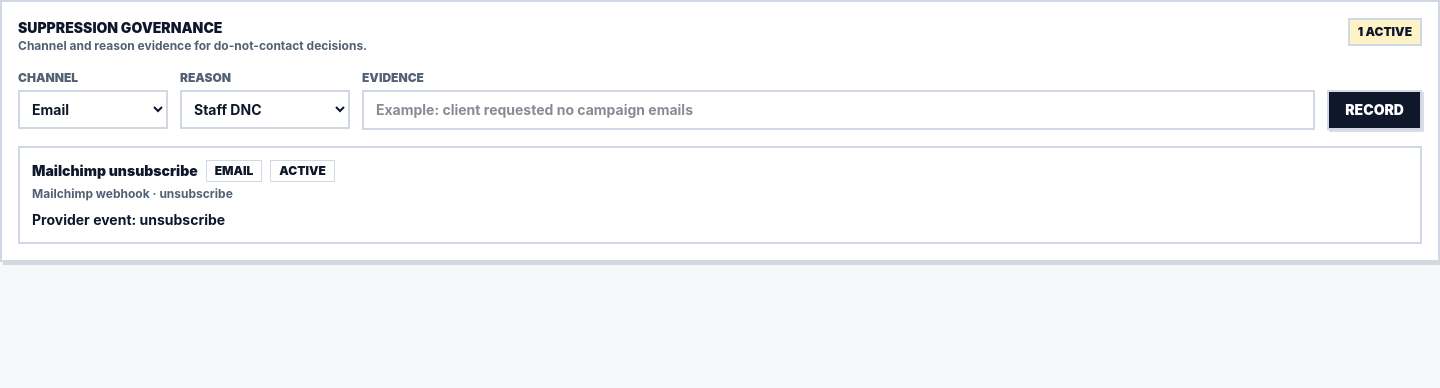
Test: ContactSuppressionPanel › renders provider suppression evidence and records a staff DNC entry
The image size is (1440, 388).
Check: the text "Mailchimp unsubscribe" is shown, box x1=32 y1=161 x2=198 y2=181
Type "Client requested no campaign emails" into the field labelled "Evidence" at (839, 110), box x1=362 y1=90 x2=1315 y2=130
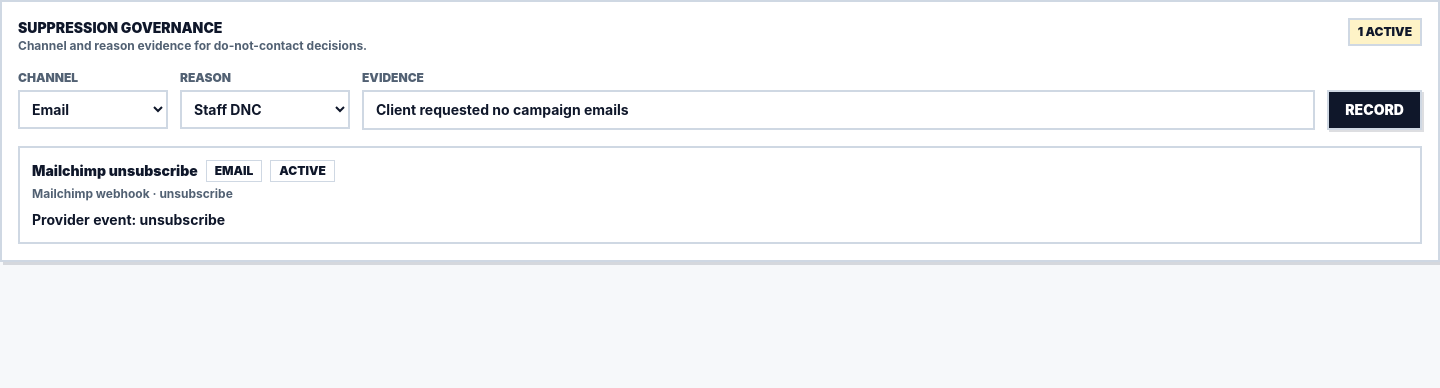
Click the button "Record" at (1375, 110), box x1=1327 y1=90 x2=1422 y2=130
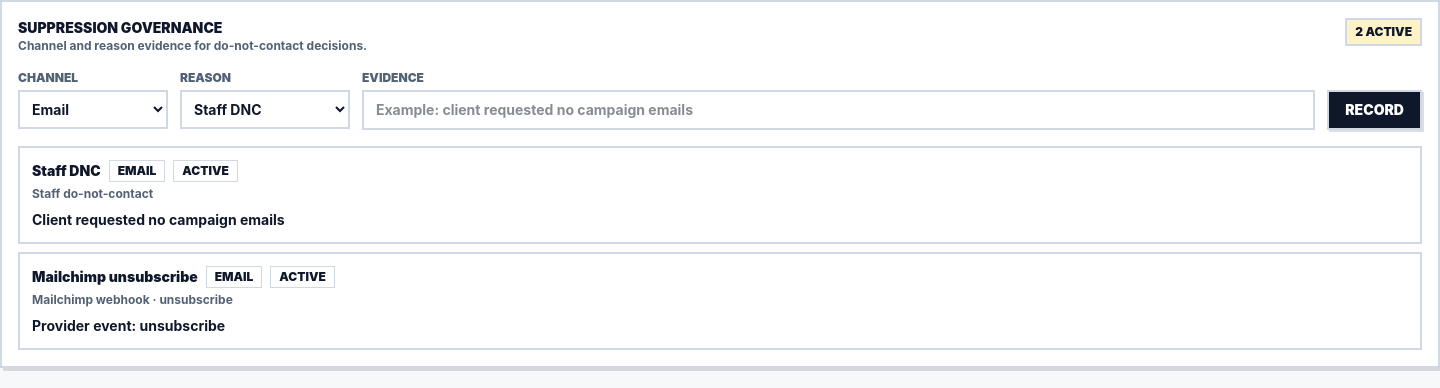
Check: the text "Client requested no campaign emails" is shown, box x1=32 y1=211 x2=285 y2=228
